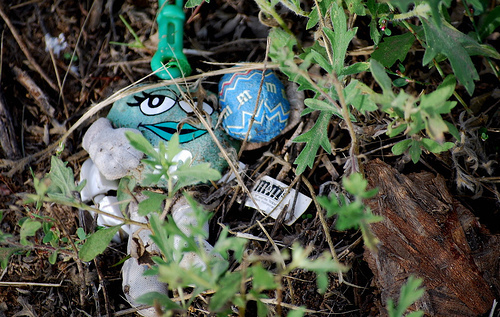litter: (81, 190, 220, 315), (104, 81, 233, 187), (221, 69, 291, 144), (235, 168, 312, 223), (151, 0, 189, 79), (79, 117, 104, 186)
